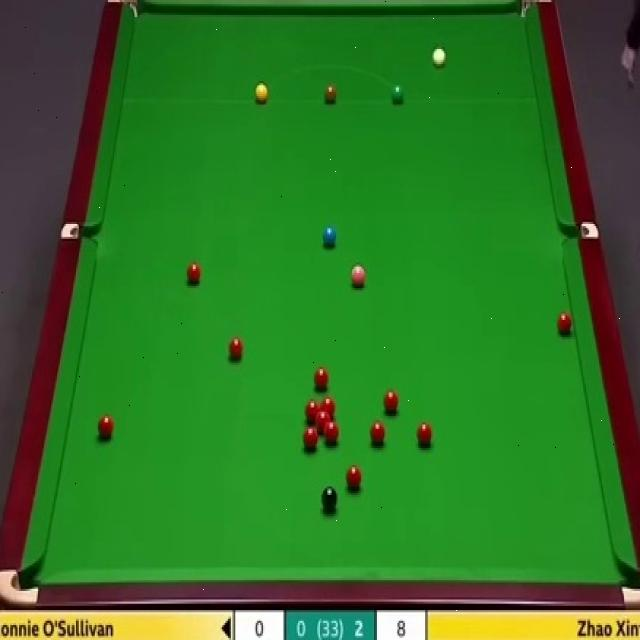black-ball: (321, 484, 339, 513)
blue-ball: (321, 225, 337, 249)
brown-ball: (324, 83, 337, 104)
green-ball: (390, 82, 404, 104)
pink-ball: (348, 265, 368, 294)
red-ball: (556, 310, 575, 340), (344, 463, 364, 491), (96, 414, 114, 439), (368, 422, 386, 447), (382, 389, 400, 414), (226, 334, 242, 362), (185, 262, 203, 286), (416, 423, 433, 448), (323, 422, 339, 446), (303, 427, 318, 450), (314, 368, 329, 391), (304, 403, 320, 424), (320, 396, 336, 417), (316, 412, 330, 431)
white-ball: (429, 44, 448, 68)
yellow-ball: (255, 84, 268, 105)
